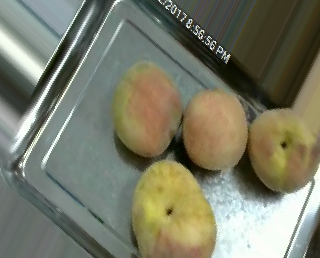Peach: (132, 160, 215, 257), (112, 61, 183, 156), (246, 106, 320, 193), (182, 88, 248, 171)
